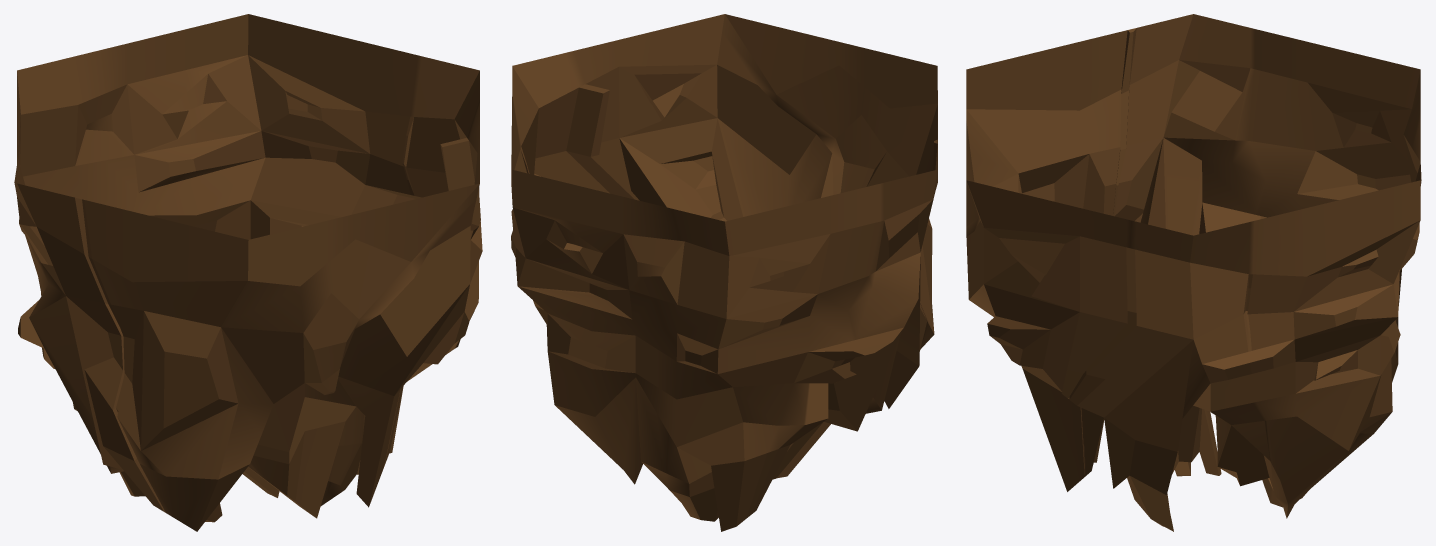
File: Tile_Hueco.fbx
The picture shows the model from 3 angles, left to right: view 1: azimuth 30°, elevation 25°; view 2: azimuth 150°, elevation 25°; view 3: azimuth 270°, elevation 25°; orthographic projection. The views are drawn at different scales.
Visible parts, largest first — view 1: polySurface9; view 2: polySurface9; view 3: polySurface9.
Part boxes in pixels (x1=…): polySurface9: x1=14, y1=14, x2=482, y2=531; polySurface9: x1=511, y1=14, x2=937, y2=531; polySurface9: x1=966, y1=14, x2=1421, y2=531.
Size of the model in its own units: 139 by 114 by 121.
